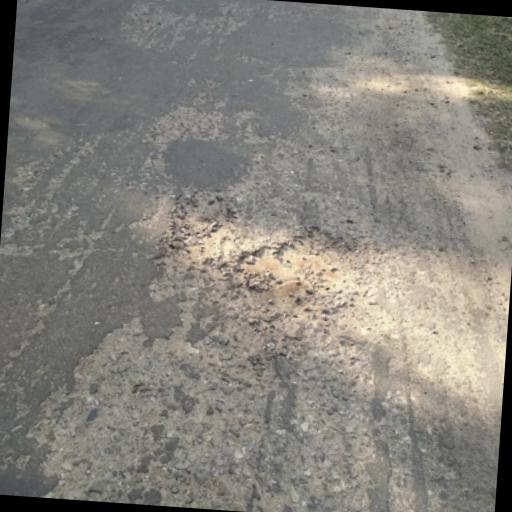pothole: (234, 219, 376, 327), (157, 186, 245, 276)
